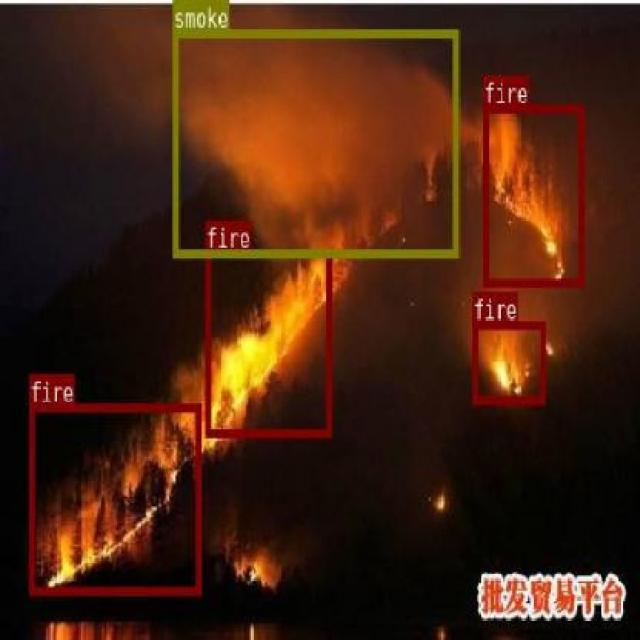Fire: (28, 403, 200, 594), (204, 248, 330, 436), (483, 102, 583, 286), (471, 319, 544, 404)
Smoke: (172, 28, 457, 256)
